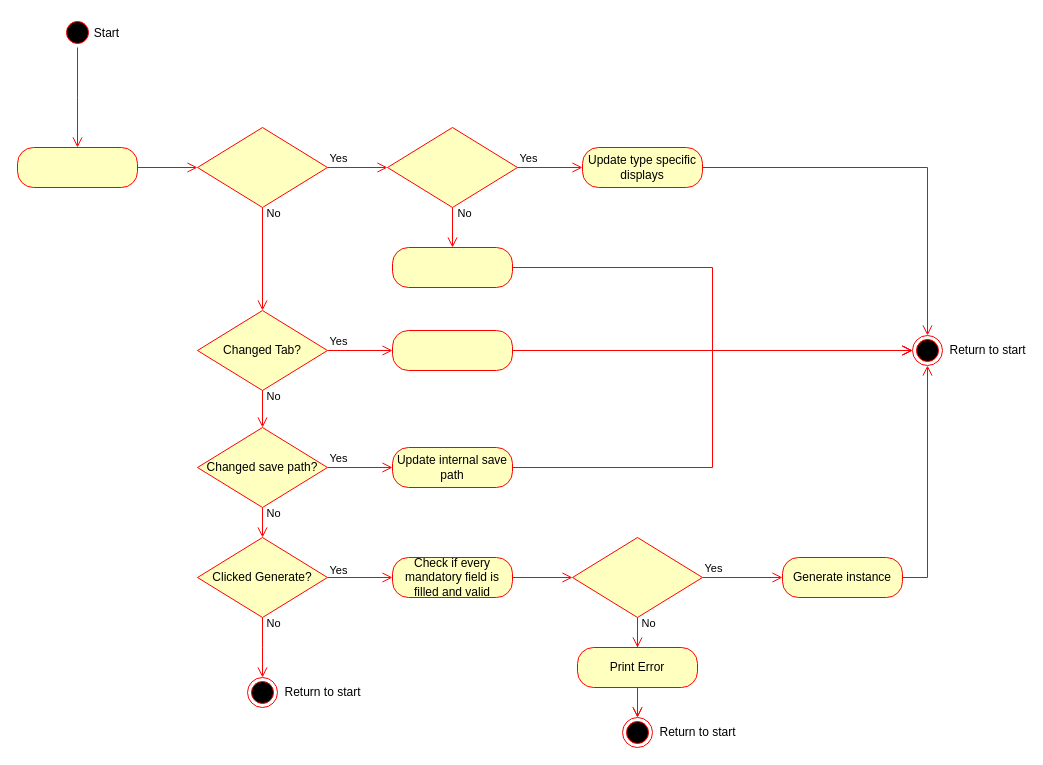
Some shapes in this 1043 by 765 pixel diagram are drawn without their labels. The box of each missing label's shape, as (x1, y1, x2, y2) in pixels:
Changed any value?: (196, 126, 328, 208)
Changed Item Type?: (386, 126, 518, 208)
Did check return true?: (572, 536, 702, 618)
Got User Input: (16, 146, 138, 188)
Hide old tab and display new one: (392, 330, 512, 370)
Update instance value: (392, 246, 512, 288)
